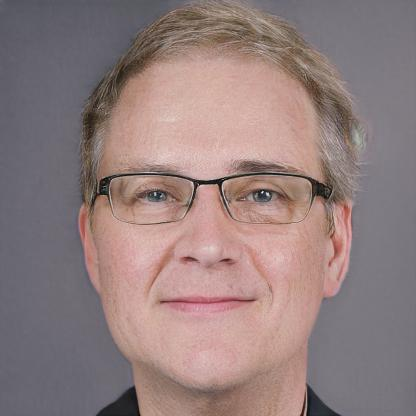glasses: (93, 166, 324, 232)
